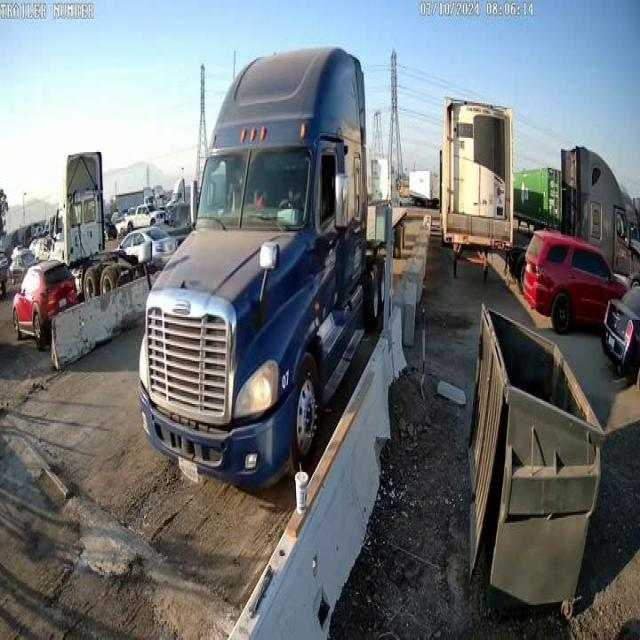TRUCK_OUT: (138, 45, 392, 494)
